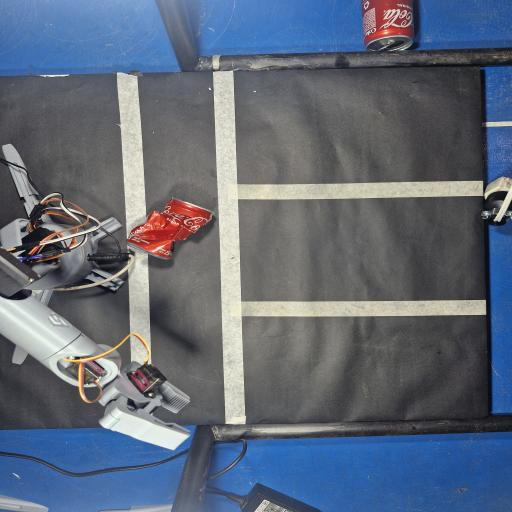lata_defectuoso: (127, 198, 212, 259)
